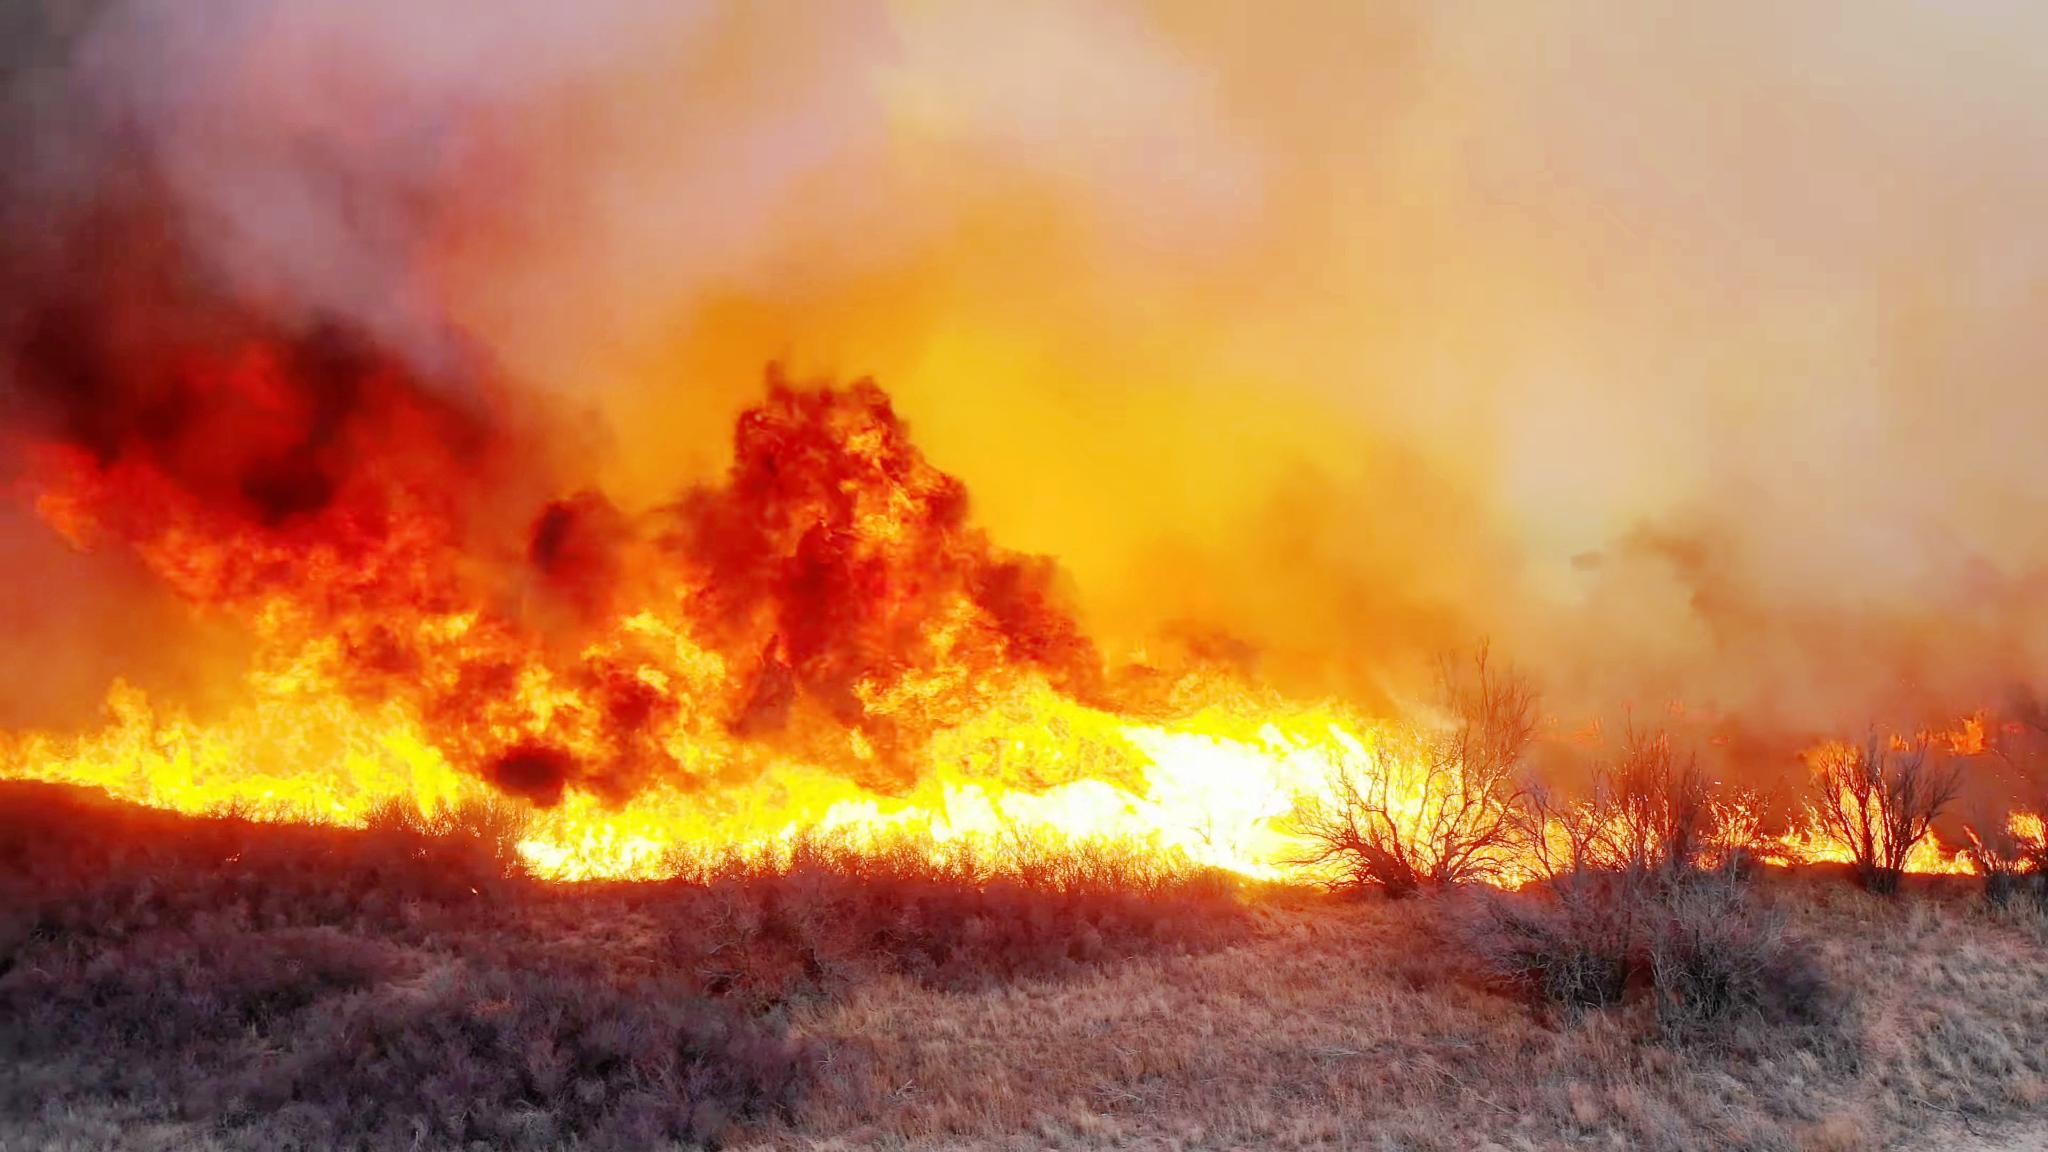fire: (934, 643, 1438, 872), (529, 726, 931, 879), (0, 715, 453, 817)
smoke: (0, 0, 532, 547), (591, 352, 1054, 610)
